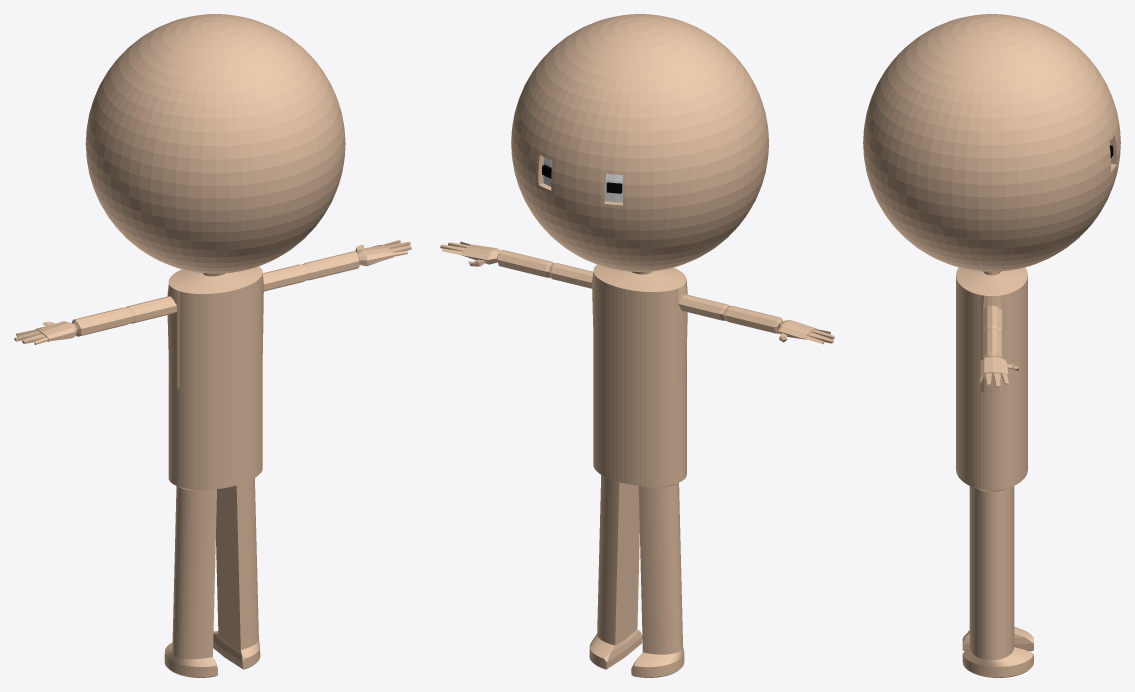
File: deneme2.fbx
The picture shows the model from 3 angles, left to right: view 1: azimuth 30°, elevation 25°; view 2: azimuth 150°, elevation 25°; view 3: azimuth 270°, elevation 25°; orthographic projection.
Parts seen in each view (by area): view 1: Sphere; view 2: Sphere; view 3: Sphere.
Boxes of the visible parts, <box> form: Sphere: <box>14,14,411,677</box>; Sphere: <box>440,14,834,677</box>; Sphere: <box>863,14,1120,677</box>.
Bounding box in the file's own units: 351 × 541 × 200.
